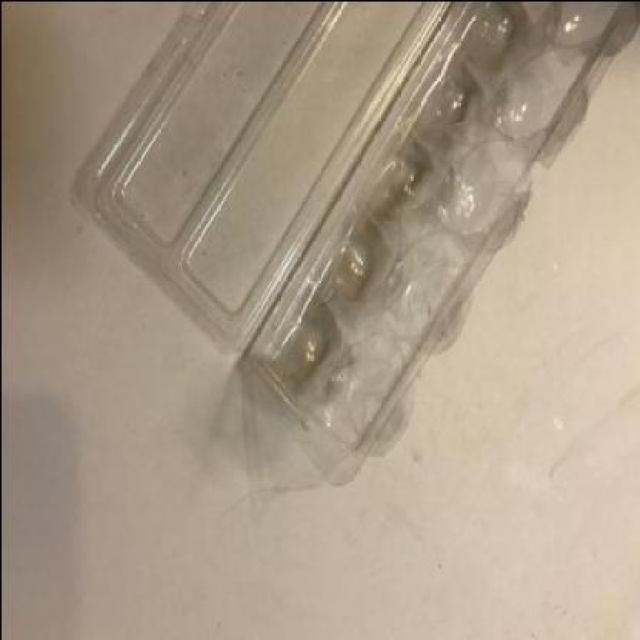PLASTIC: (71, 2, 638, 489), (70, 1, 473, 354)
